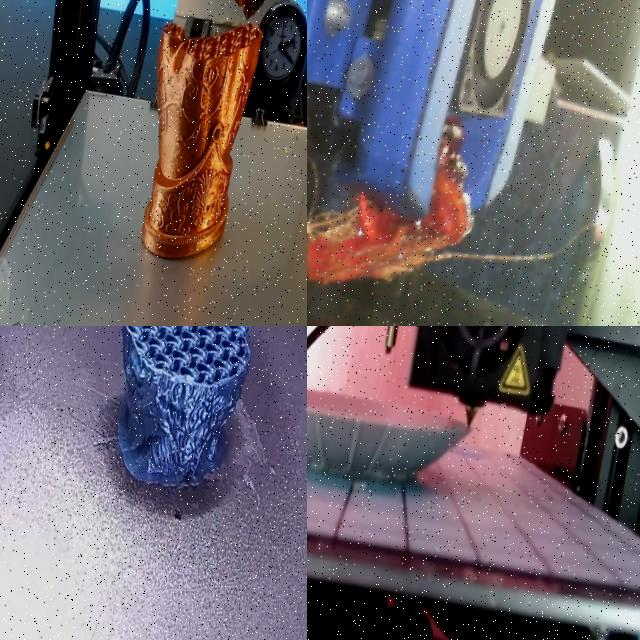spaghetti: (307, 118, 493, 284), (307, 117, 473, 283)
